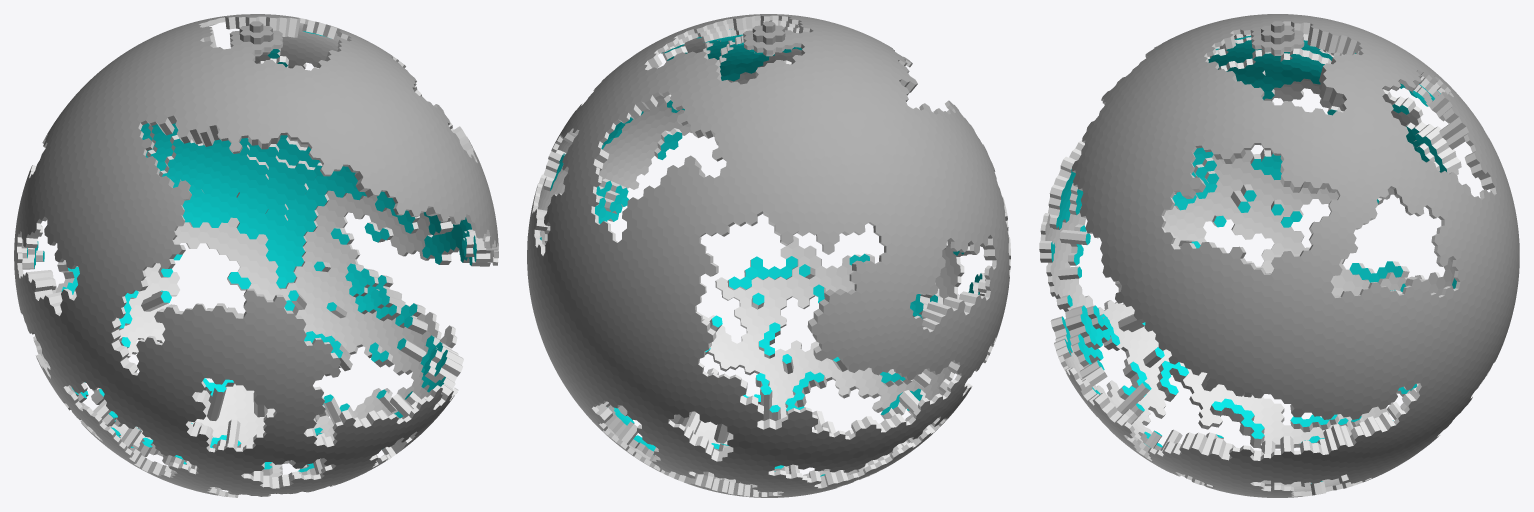
3 views of the same model, side by side, from view 1: azimuth 30°, elevation 25°; view 2: azimuth 150°, elevation 25°; view 3: azimuth 270°, elevation 25° (orthographic).
Visible parts, largest first — view 1: sphereFinal_v2; view 2: sphereFinal_v2; view 3: sphereFinal_v2.
Part boxes in pixels (bbox=[...]): sphereFinal_v2: bbox=[14, 14, 498, 497]; sphereFinal_v2: bbox=[527, 14, 1010, 497]; sphereFinal_v2: bbox=[1039, 14, 1519, 497].
Bounding box in the file's own units: 5097 × 5396 × 5060.
